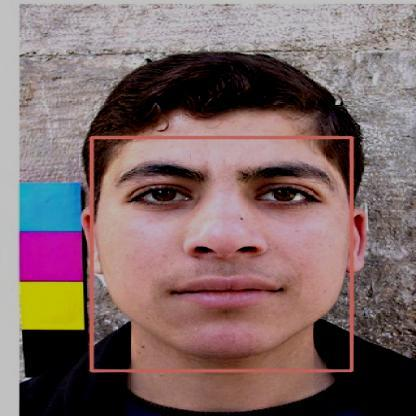without_mask: (91, 137, 351, 370)
